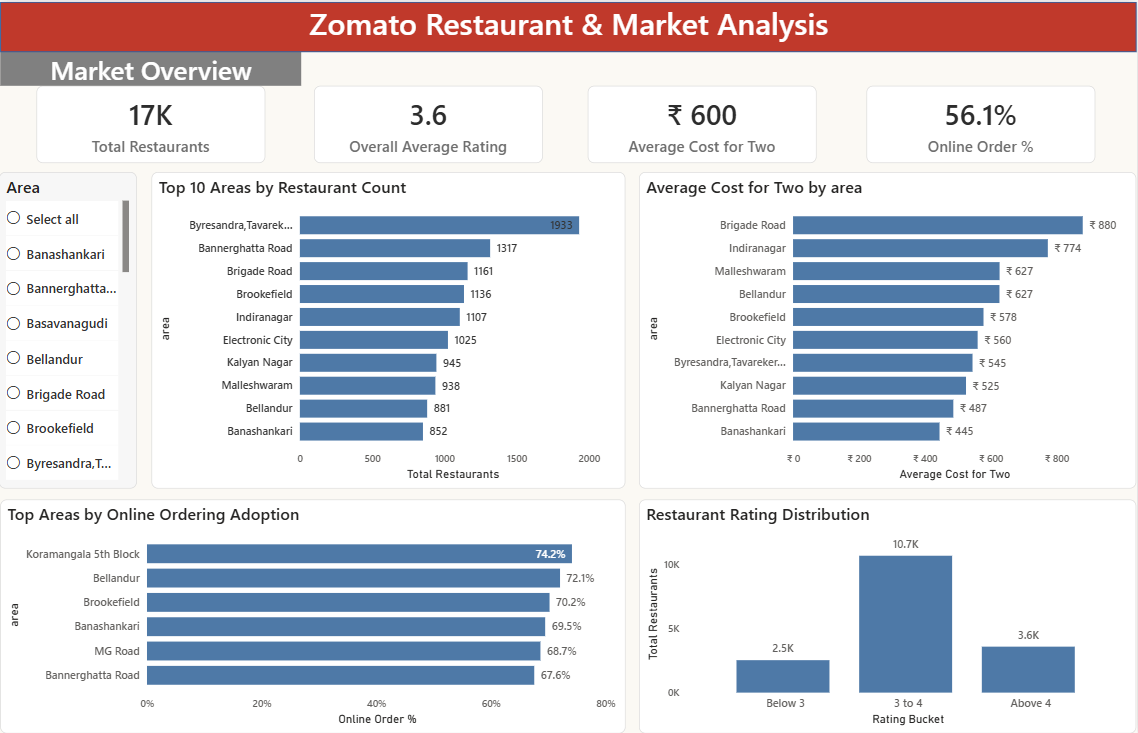

What the dashboard file says about the page in this screenshot:
{"tool":"powerbi","page":{"name":"Market Overview","canvas":[1400,900],"ordinal":0},"visuals":[{"type":"card","fields":{"Values":["_Measures.Total Restaurants"]},"box":[46.2,103.1,281.5,95.4],"z":0},{"type":"card","fields":{"Values":["_Measures.Average Rating"]},"box":[387.7,103.1,281.5,95.4],"z":1000},{"type":"card","fields":{"Values":["_Measures.Average Cost"]},"box":[724.6,103.1,281.5,95.4],"z":2000},{"type":"card","fields":{"Values":["_Measures.Online Order %"]},"box":[1067.7,103.1,281.5,95.4],"z":3000},{"type":"clusteredBarChart","title":"Top 10 Areas by Restaurant Count","fields":{"Category":["zomato.area"],"Y":["_Measures.Total Restaurants"]},"box":[187.7,209.2,583.1,389.2],"z":4000},{"type":"listSlicer","title":"Area","fields":{"Values":["zomato.area"]},"box":[0,209.2,169.2,389.2],"z":5000},{"type":"textbox","title":"Market Overview","box":[1.5,61.5,370.8,41.5],"z":7000},{"type":"clusteredBarChart","fields":{"Category":["zomato.area"],"Y":["_Measures.Average Cost for Two"]},"box":[787.7,209.2,612.3,389.2],"z":8000},{"type":"clusteredBarChart","title":"Top Areas by Online Ordering Adoption","fields":{"Category":["zomato.area"],"Y":["_Measures.Online Order %"]},"box":[1.5,612.3,769.2,287.7],"z":9000},{"type":"clusteredColumnChart","title":"Restaurant Rating Distribution","fields":{"Y":["_Measures.Total Restaurants"],"Category":["zomato.Rating Bucket"]},"box":[787.7,612.3,612.3,287.7],"z":10000},{"type":"textbox","title":"Zomato Restaurant & Market Analysis ","box":[1.5,0,1398.5,61.5],"z":11000}]}

Visuals, with their boxes in screenshot pixels (x1, y1, x2, y2), scaled from the page's 1400x900 canvas onto the 1138x733 screenshot:
card - _Measures.Total Restaurants: [38, 84, 266, 162]
card - _Measures.Average Rating: [315, 84, 544, 162]
card - _Measures.Average Cost: [589, 84, 818, 162]
card - _Measures.Online Order %: [868, 84, 1097, 162]
"Top 10 Areas by Restaurant Count" clusteredBarChart: [153, 170, 627, 487]
"Area" listSlicer: [0, 170, 138, 487]
"Market Overview" textbox: [1, 50, 303, 84]
clusteredBarChart - zomato.area x _Measures.Average Cost for Two: [640, 170, 1137, 487]
"Top Areas by Online Ordering Adoption" clusteredBarChart: [1, 499, 626, 732]
"Restaurant Rating Distribution" clusteredColumnChart: [640, 499, 1137, 732]
"Zomato Restaurant & Market Analysis " textbox: [1, 0, 1137, 50]
